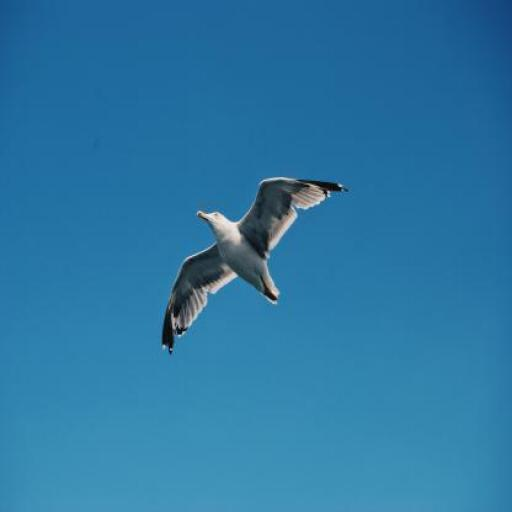bird: (162, 178, 350, 354)
